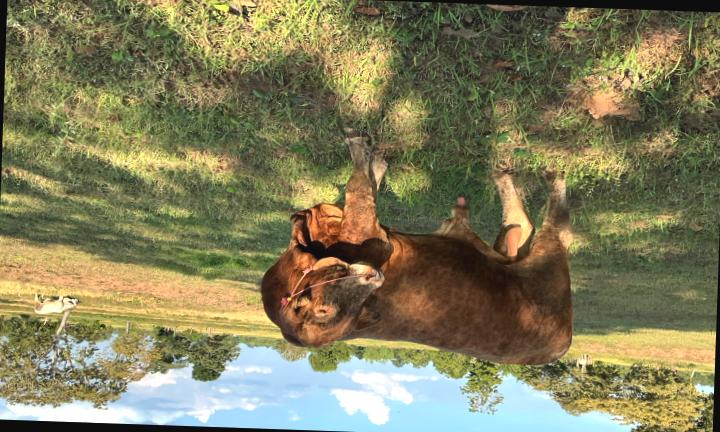Charolais: (261, 130, 572, 365)
